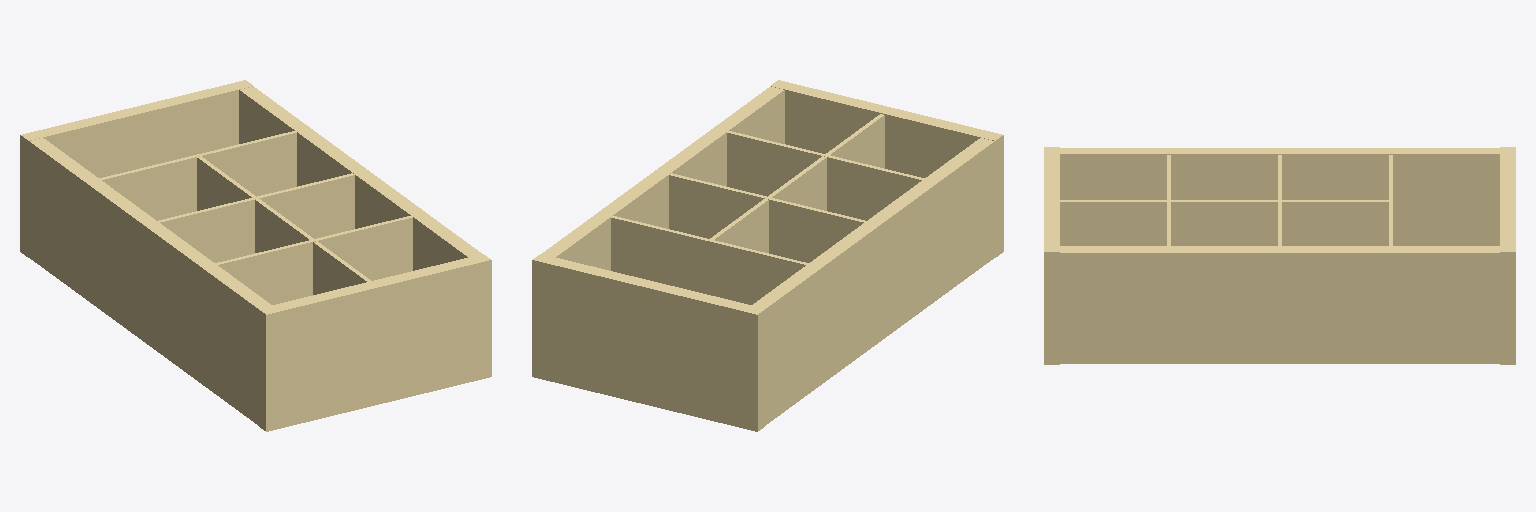
The robot description file, URDF, robot "bookcase":
<robot name="bookcase">
  <link name="bookcase">
    <collision>
      <origin xyz="-0.368 0.0 0.0" />
      <geometry>
        <box size="0.05 1.39 0.39" />
      </geometry>
    </collision>
    <visual>
      <origin xyz="-0.368 0.0 0.0" />
      <material name="c">
        <color rgba="0.968 0.901 0.709 1.0" />
      </material>
      <geometry>
        <box size="0.05 1.39 0.39" />
      </geometry>
    </visual>
    <collision>
      <origin xyz="0.368 0.0 0.0" />
      <geometry>
        <box size="0.05 1.39 0.39" />
      </geometry>
    </collision>
    <visual>
      <origin xyz="0.368 0.0 0.0" />
      <material name="c">
        <color rgba="0.968 0.901 0.709 1.0" />
      </material>
      <geometry>
        <box size="0.05 1.39 0.39" />
      </geometry>
    </visual>
    <collision>
      <origin xyz="0.0 -0.72 0.0" />
      <geometry>
        <box size="0.788 0.05 0.392" />
      </geometry>
    </collision>
    <visual>
      <origin xyz="0.0 -0.72 0.0" />
      <material name="c">
        <color rgba="0.968 0.901 0.709 1.0" />
      </material>
      <geometry>
        <box size="0.788 0.05 0.392" />
      </geometry>
    </visual>
    <collision>
      <origin xyz="0.0 0.72 0.0" />
      <geometry>
        <box size="0.788 0.05 0.392" />
      </geometry>
    </collision>
    <visual>
      <origin xyz="0.0 0.72 0.0" />
      <material name="c">
        <color rgba="0.968 0.901 0.709 1.0" />
      </material>
      <geometry>
        <box size="0.788 0.05 0.392" />
      </geometry>
    </visual>
    <collision>
      <origin xyz="0.0 0.35125 0.0" />
      <geometry>
        <box size="0.686 0.015 0.388" />
      </geometry>
    </collision>
    <visual>
      <origin xyz="0.0 0.35125 0.0" />
      <material name="c">
        <color rgba="0.968 0.901 0.709 1.0" />
      </material>
      <geometry>
        <box size="0.686 0.015 0.388" />
      </geometry>
    </visual>
    <collision>
      <origin xyz="0.0 0.0 0.0" />
      <geometry>
        <box size="0.686 0.015 0.388" />
      </geometry>
    </collision>
    <visual>
      <origin xyz="0.0 0.0 0.0" />
      <material name="c">
        <color rgba="0.968 0.901 0.709 1.0" />
      </material>
      <geometry>
        <box size="0.686 0.015 0.388" />
      </geometry>
    </visual>
    <collision>
      <origin xyz="0.0 -0.35125 0.0" />
      <geometry>
        <box size="0.686 0.015 0.388" />
      </geometry>
    </collision>
    <visual>
      <origin xyz="0.0 -0.35125 0.0" />
      <material name="c">
        <color rgba="0.968 0.901 0.709 1.0" />
      </material>
      <geometry>
        <box size="0.686 0.015 0.388" />
      </geometry>
    </visual>
    <collision>
      <origin xyz="0.0 0.175625 0.0" />
      <geometry>
        <box size="0.015 0.33625 0.386" />
      </geometry>
    </collision>
    <visual>
      <origin xyz="0.0 0.175625 0.0" />
      <material name="c">
        <color rgba="0.968 0.901 0.709 1.0" />
      </material>
      <geometry>
        <box size="0.015 0.33625 0.386" />
      </geometry>
    </visual>
    <collision>
      <origin xyz="0.0 -0.175625 0.0" />
      <geometry>
        <box size="0.015 0.33625 0.386" />
      </geometry>
    </collision>
    <visual>
      <origin xyz="0.0 -0.175625 0.0" />
      <material name="c">
        <color rgba="0.968 0.901 0.709 1.0" />
      </material>
      <geometry>
        <box size="0.015 0.33625 0.386" />
      </geometry>
    </visual>
    <collision>
      <origin xyz="0.0 -0.526875 0.0" />
      <geometry>
        <box size="0.015 0.33625 0.386" />
      </geometry>
    </collision>
    <visual>
      <origin xyz="0.0 -0.526875 0.0" />
      <material name="c">
        <color rgba="0.968 0.901 0.709 1.0" />
      </material>
      <geometry>
        <box size="0.015 0.33625 0.386" />
      </geometry>
    </visual>
  </link>
</robot>

--- Facts derived from the render (not from the file) ---
Views: 3 orthographic renders of the robot side by side, from view 1: azimuth 30°, elevation 25°; view 2: azimuth 150°, elevation 25°; view 3: azimuth 270°, elevation 25°.
Model bookcase with 1 links and 0 joints (none), rooted at bookcase, posed all joints at 0.
Visible links, largest first — view 1: bookcase; view 2: bookcase; view 3: bookcase.
Link boxes in pixels (x1,y1,x2,y2): bookcase: [20, 80, 491, 431]; bookcase: [532, 80, 1003, 431]; bookcase: [1044, 147, 1515, 364].
Size in the robot's own frame: 0.788 by 1.49 by 0.392 metres.
Geometry: primitives only (box / cylinder / sphere), no mesh files.